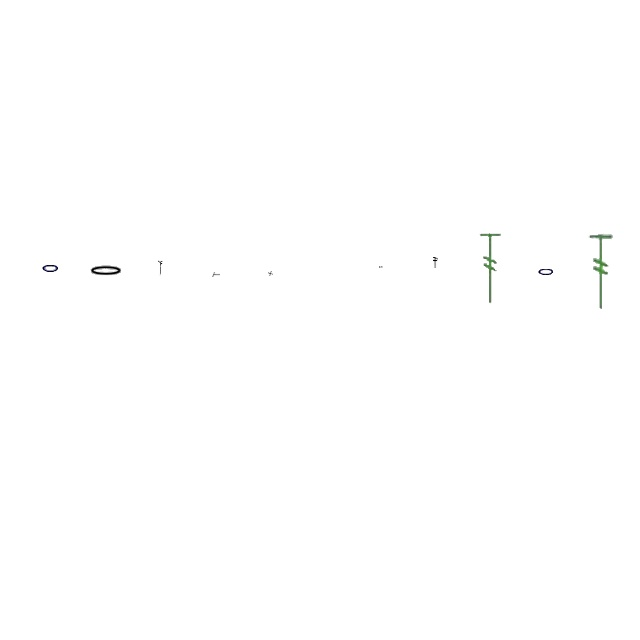chain: (88, 264, 124, 278), (42, 261, 60, 275), (537, 266, 555, 278), (379, 266, 383, 268)
double treble: (158, 260, 164, 276), (434, 258, 438, 268)
enseble_chain: (212, 272, 220, 278), (268, 272, 274, 276)
fan: (478, 230, 504, 308), (588, 233, 614, 311)
